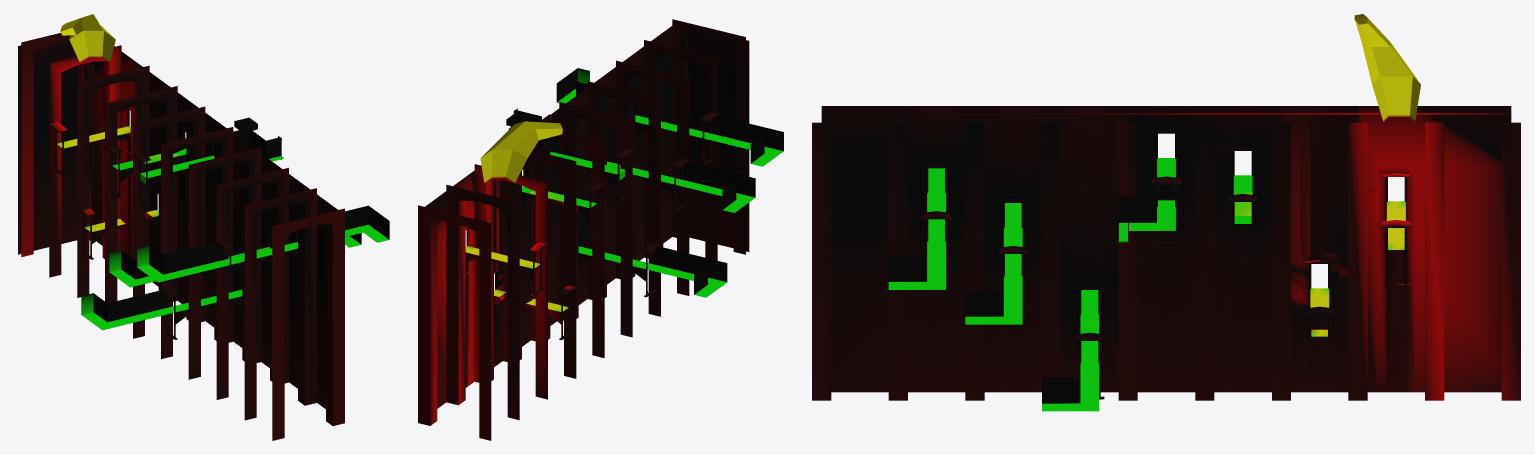
Rendered from chasm.glb.
3 views of the same model, side by side, from view 1: azimuth 30°, elevation 25°; view 2: azimuth 150°, elevation 25°; view 3: azimuth 270°, elevation 25° (orthographic). The views are drawn at different scales.
Visible parts, largest first — view 1: Chasm_Pillars, Chasm_Chamber, Chasm_Doorway_Dead_Ends, Chasm_Ceiling, Chasm_Access; view 2: Chasm_Pillars, Chasm_Chamber, Chasm_Doorway_Dead_Ends, Chasm_Ceiling, Chasm_Access; view 3: Chasm_Chamber, Chasm_Pillars, Chasm_Doorway_Dead_Ends, Chasm_Ceiling, Chasm_Access.
Boxes of the visible parts, left/top/right/bottom form: Chasm_Pillars: left=21, top=33, right=344, bottom=440; Chasm_Chamber: left=18, top=41, right=337, bottom=408; Chasm_Doorway_Dead_Ends: left=81, top=205, right=389, bottom=330; Chasm_Ceiling: left=60, top=14, right=115, bottom=62; Chasm_Access: left=213, top=117, right=283, bottom=161; Chasm_Pillars: left=418, top=19, right=745, bottom=440; Chasm_Chamber: left=425, top=26, right=749, bottom=408; Chasm_Doorway_Dead_Ends: left=542, top=68, right=783, bottom=297; Chasm_Ceiling: left=480, top=121, right=562, bottom=183; Chasm_Access: left=506, top=108, right=551, bottom=152; Chasm_Chamber: left=821, top=106, right=1511, bottom=399; Chasm_Pillars: left=812, top=122, right=1520, bottom=400; Chasm_Doorway_Dead_Ends: left=888, top=168, right=1099, bottom=411; Chasm_Ceiling: left=821, top=14, right=1511, bottom=121; Chasm_Access: left=1118, top=182, right=1178, bottom=242.
Bounding box in the file's own units: 36 × 43.11 × 74.
